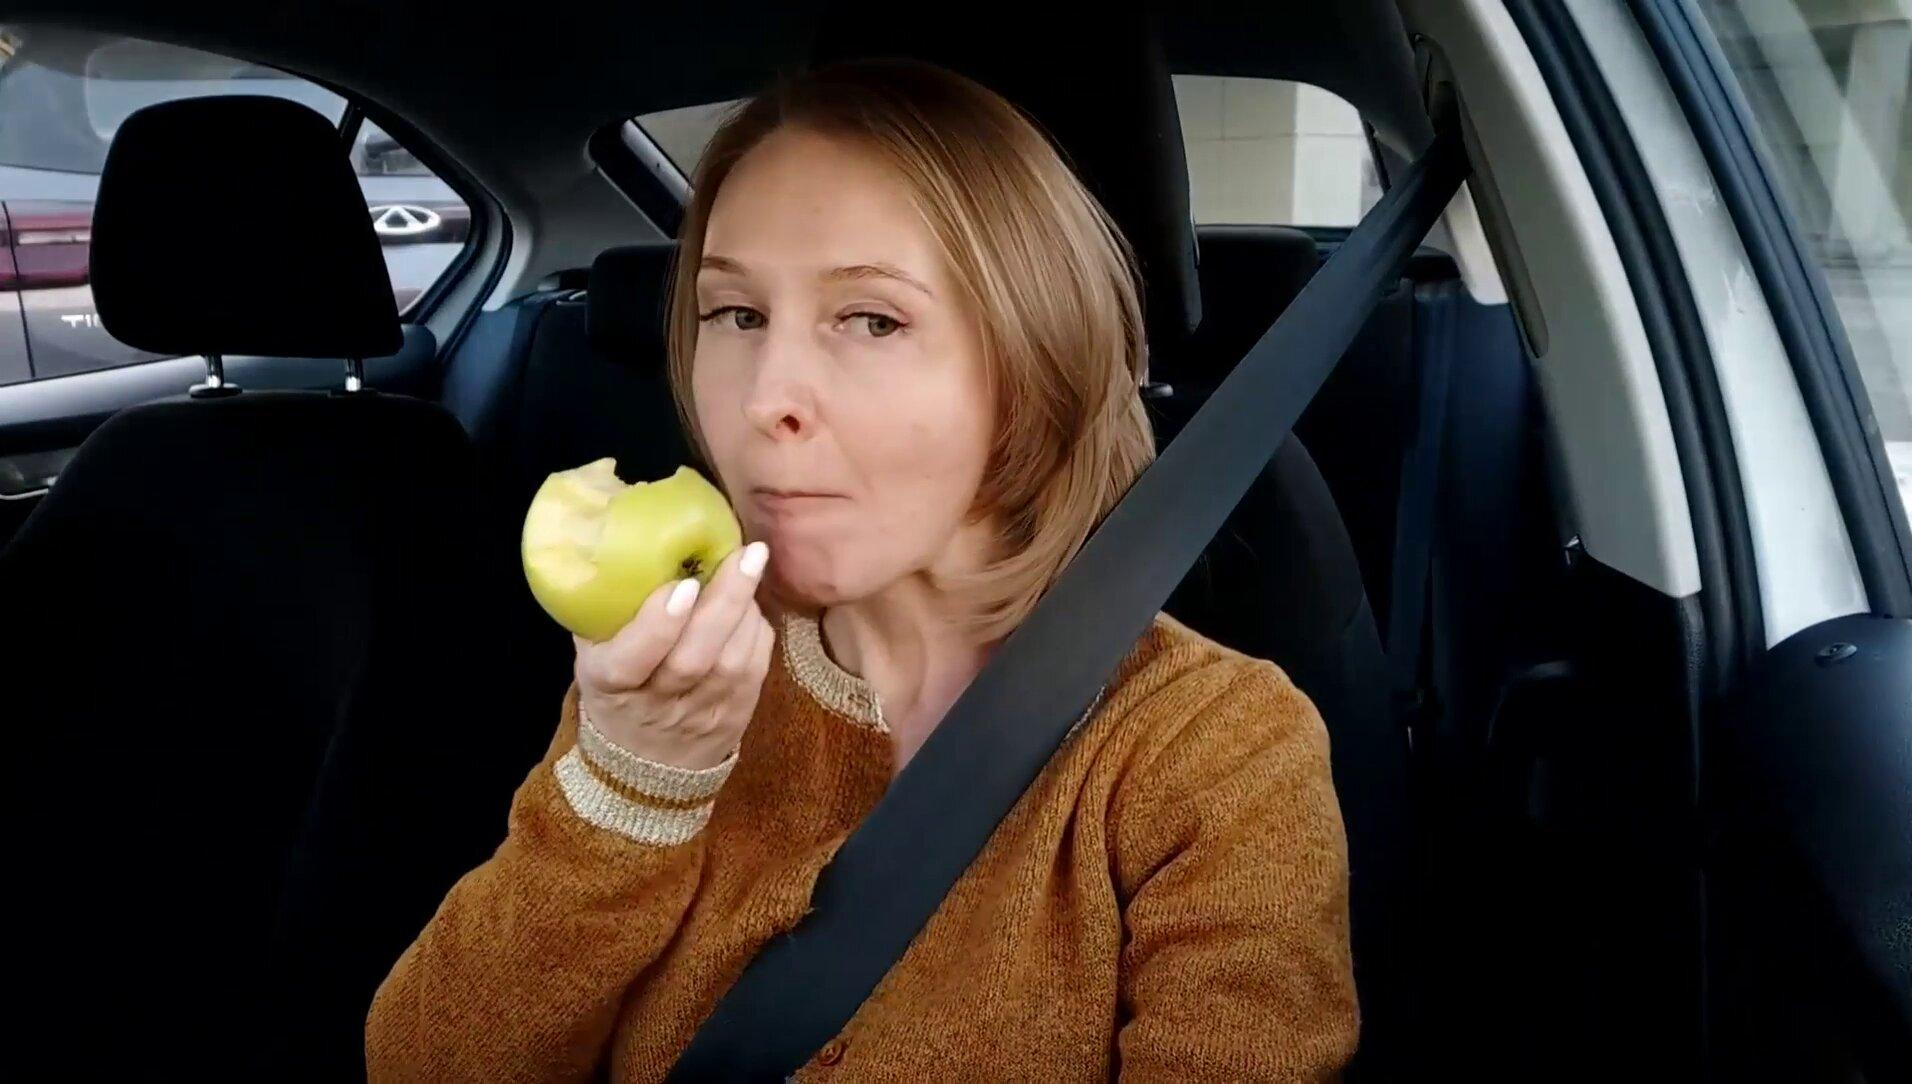Eating: (510, 443, 756, 653)
